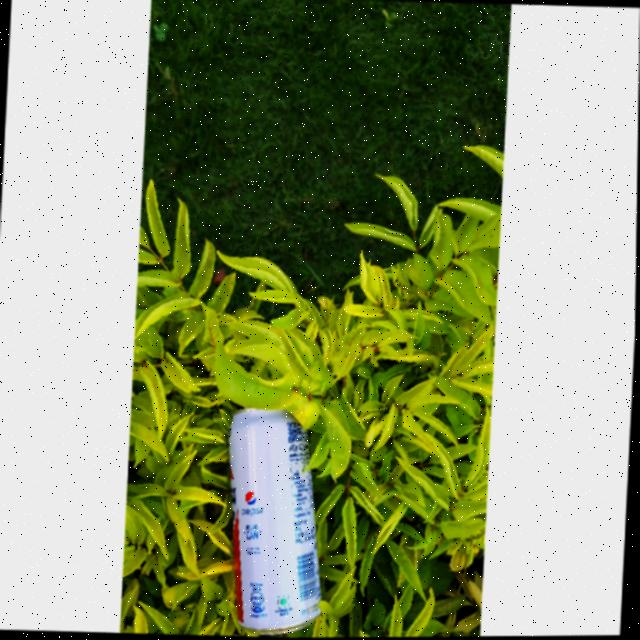Pepsi Retro: (215, 399, 333, 639)
